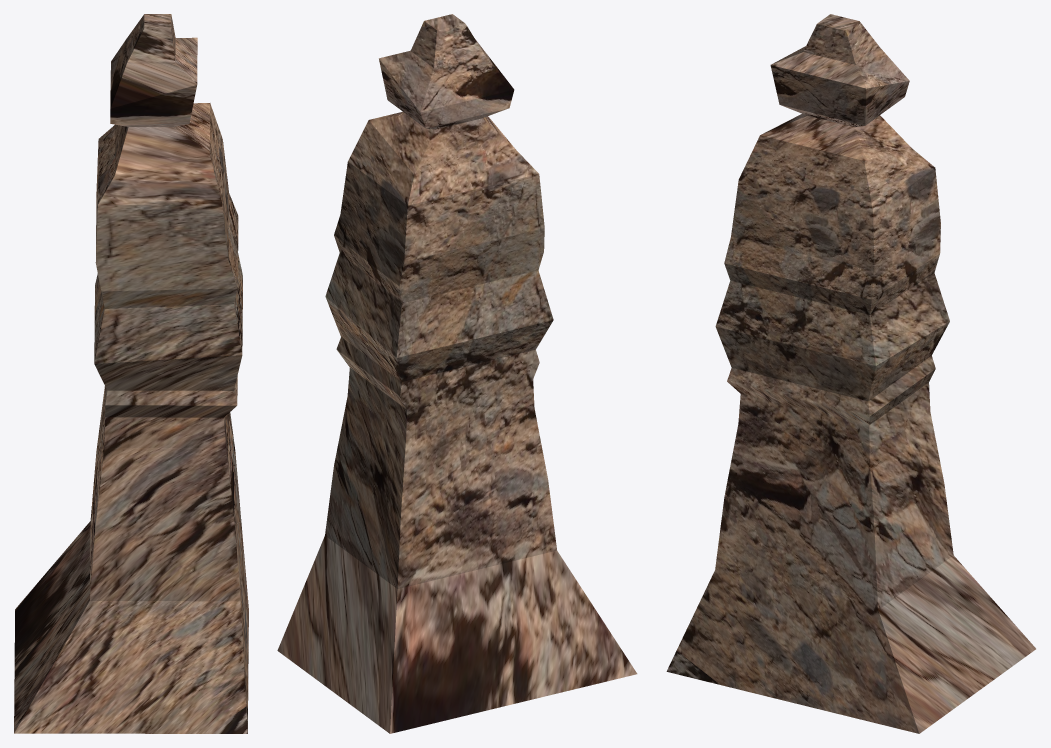
Rendered from Monk2.fbx.
The picture shows the model from 3 angles, left to right: view 1: azimuth 30°, elevation 25°; view 2: azimuth 150°, elevation 25°; view 3: azimuth 270°, elevation 25°; orthographic projection. The views are drawn at different scales.
Visible parts, largest first — view 1: Cube; view 2: Cube; view 3: Cube.
Boxes of the visible parts, bbox=[...] form: Cube: bbox=[14, 14, 248, 733]; Cube: bbox=[277, 14, 637, 733]; Cube: bbox=[666, 14, 1035, 733].
Bounding box in the file's own units: 323 × 661 × 343.
Materials: 1 (1 with a texture image).
